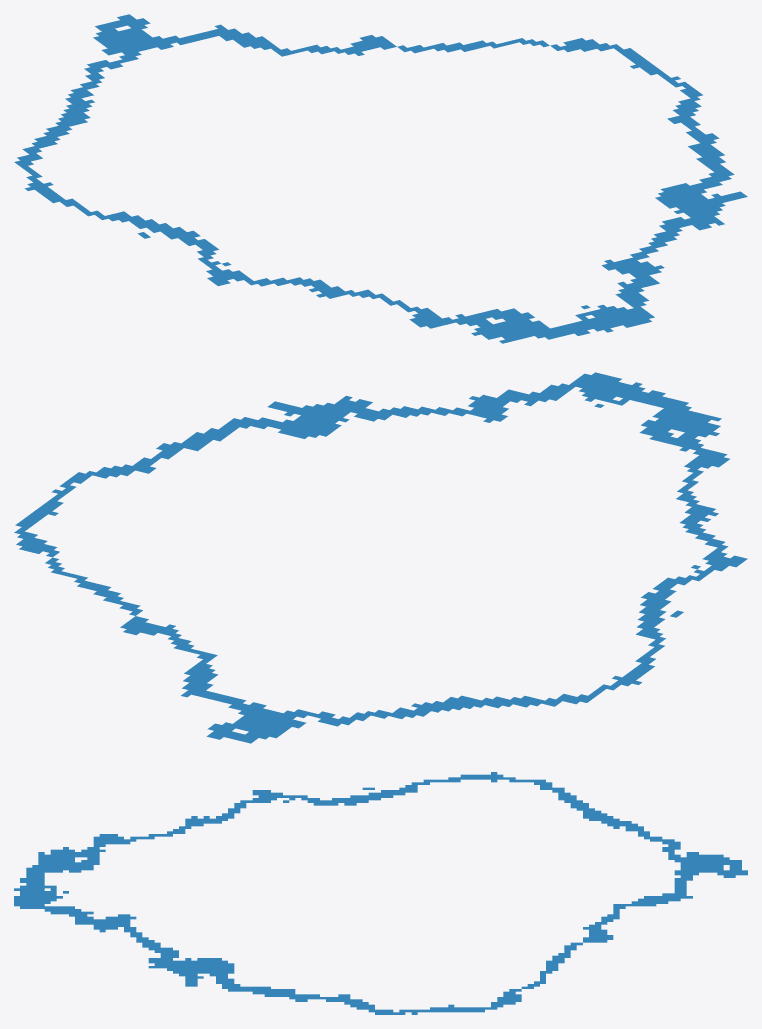
The model's file is Isl-flat2-PlaceForWaterObjects.fbx.
The picture shows the model from 3 angles, top to bottom: view 1: azimuth 30°, elevation 25°; view 2: azimuth 150°, elevation 25°; view 3: azimuth 270°, elevation 25°; orthographic projection. The views are drawn at different scales.
Visible parts, largest first — view 1: Isl-flat2-PlaceForWaterObjects; view 2: Isl-flat2-PlaceForWaterObjects; view 3: Isl-flat2-PlaceForWaterObjects.
Part boxes in pixels (x1,y1,x2,y2): Isl-flat2-PlaceForWaterObjects: [14, 14, 747, 343]; Isl-flat2-PlaceForWaterObjects: [14, 372, 747, 743]; Isl-flat2-PlaceForWaterObjects: [14, 772, 747, 1014].
Size of the model in its own units: 94 by 0 by 120.
